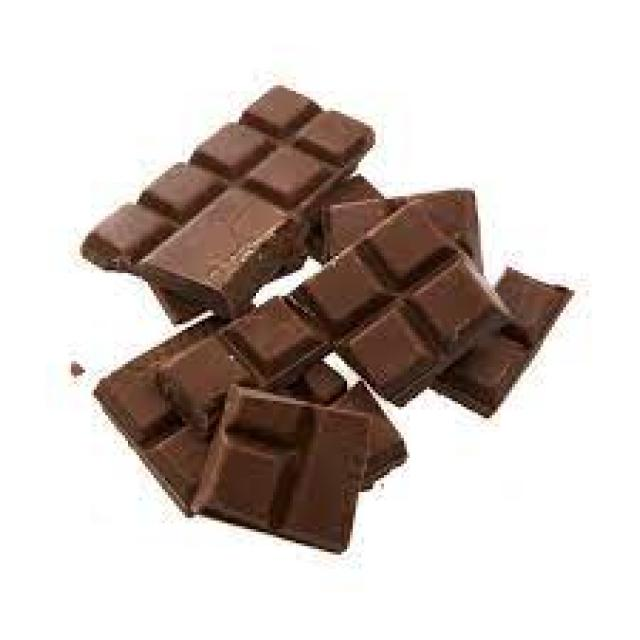Chocolate: (84, 86, 574, 548), (92, 299, 403, 518), (79, 84, 373, 314), (291, 196, 510, 406), (190, 382, 373, 556)
